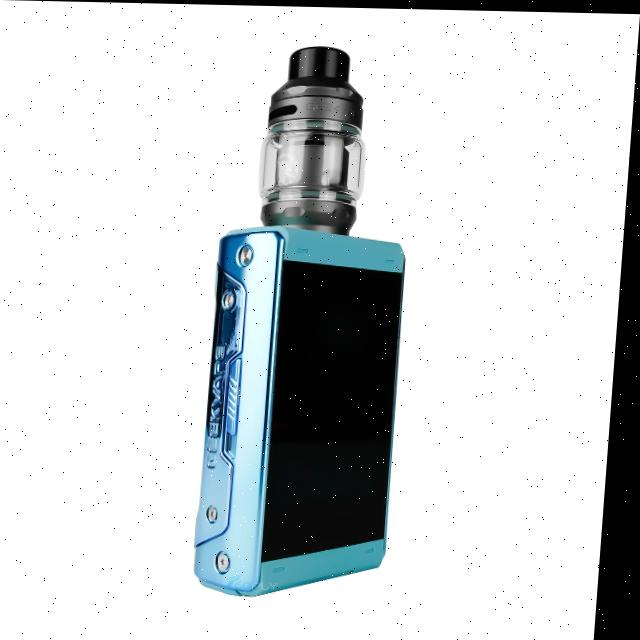vape: (201, 43, 423, 599)
